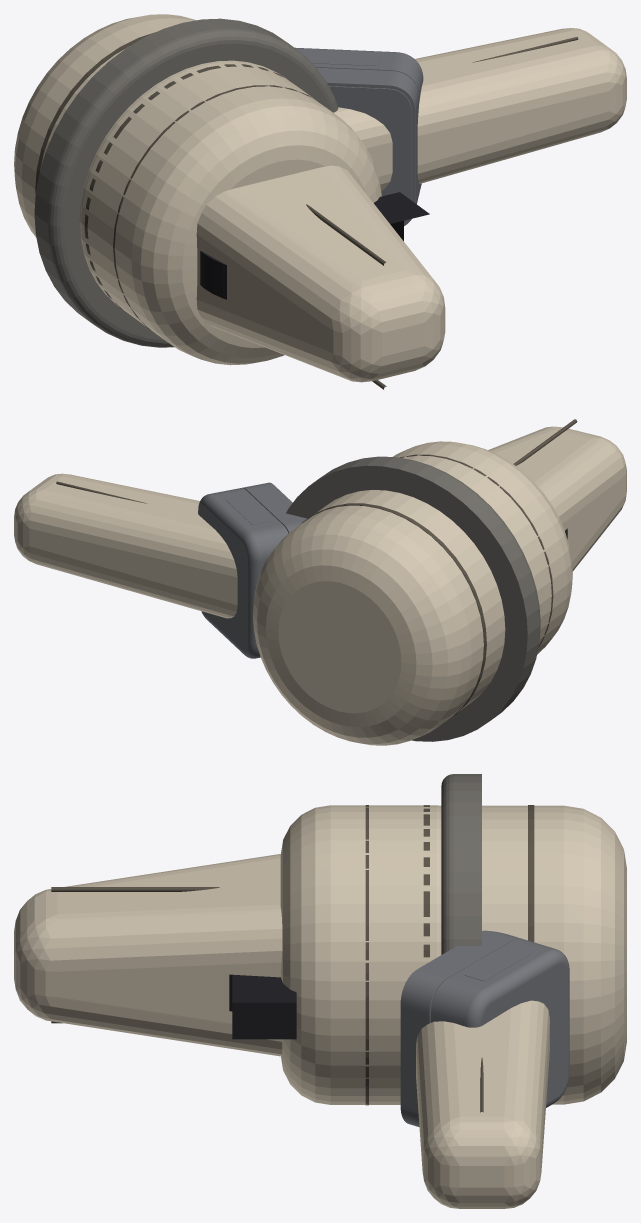
The model's file is arm.glb.
3 views of the same model, one above another, from view 1: azimuth 30°, elevation 25°; view 2: azimuth 150°, elevation 25°; view 3: azimuth 270°, elevation 25° (orthographic). The views are drawn at different scales.
Visible parts, largest first — view 1: b1, b3, b5, b8, b6; view 2: b3, b1, b5, b8; view 3: b3, b1, b5, b8, b6.
Boxes of the visible parts, bbox=[...] form: b1: bbox=[34, 18, 381, 365]; b3: bbox=[14, 14, 445, 389]; b5: bbox=[333, 28, 626, 190]; b8: bbox=[295, 47, 423, 225]; b6: bbox=[200, 192, 429, 299]; b3: bbox=[253, 419, 626, 745]; b1: bbox=[286, 441, 572, 741]; b5: bbox=[14, 473, 237, 618]; b8: bbox=[198, 482, 307, 658]; b3: bbox=[14, 805, 626, 1104]; b1: bbox=[280, 774, 481, 1105]; b5: bbox=[416, 1000, 549, 1208]; b8: bbox=[400, 930, 569, 1126]; b6: bbox=[229, 974, 296, 1039].
Size of the model in its own units: 0.1753 by 0.09 by 0.1522.
